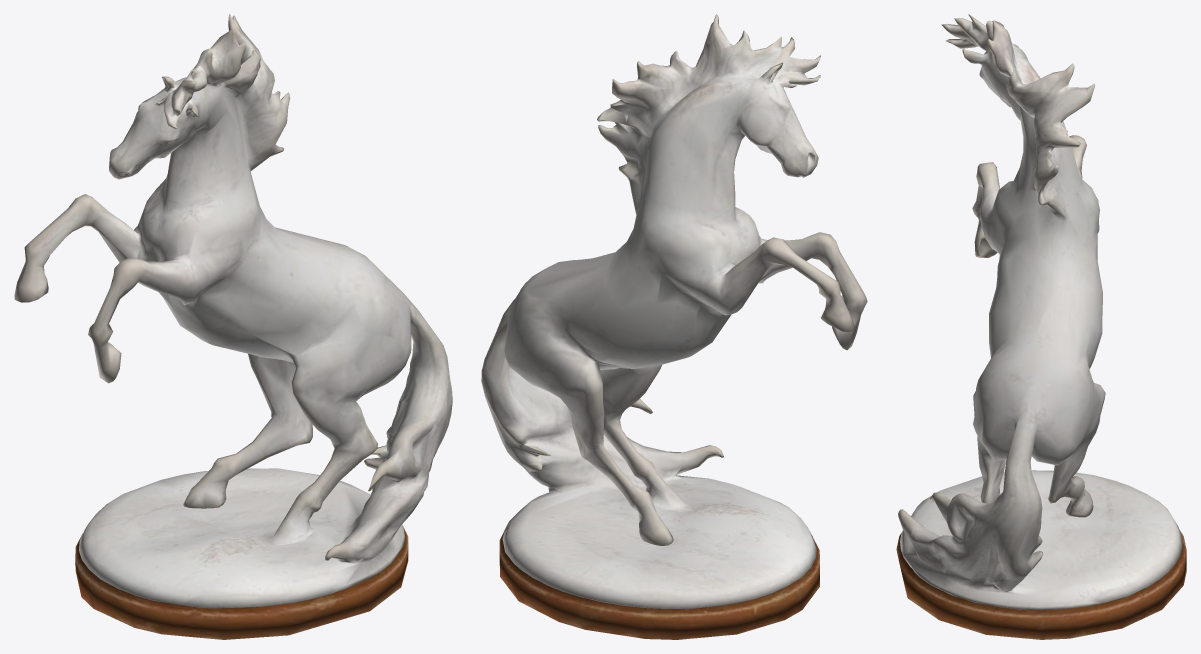
Rendered from horse_statue_01.glb.
3 views of the same model, side by side, from view 1: azimuth 30°, elevation 25°; view 2: azimuth 150°, elevation 25°; view 3: azimuth 270°, elevation 25° (orthographic). The views are drawn at different scales.
Visible parts, largest first — view 1: horse_statue_01; view 2: horse_statue_01; view 3: horse_statue_01.
Part boxes in pixels (bbox=[...]): horse_statue_01: bbox=[14, 14, 452, 639]; horse_statue_01: bbox=[481, 14, 867, 639]; horse_statue_01: bbox=[896, 14, 1186, 639].
Bounding box in the file's own units: 0.1638 × 0.22 × 0.1078.
Materials: 1 (1 with a texture image).
